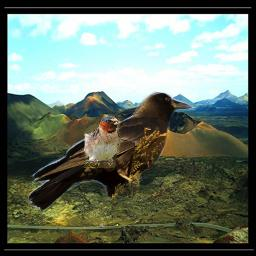Crow: (28, 88, 195, 216)
Swallow: (83, 116, 121, 168)
